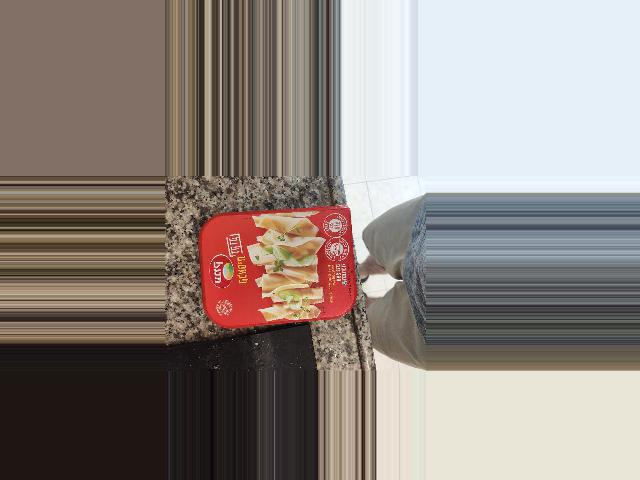cheese: (231, 220, 388, 345)
